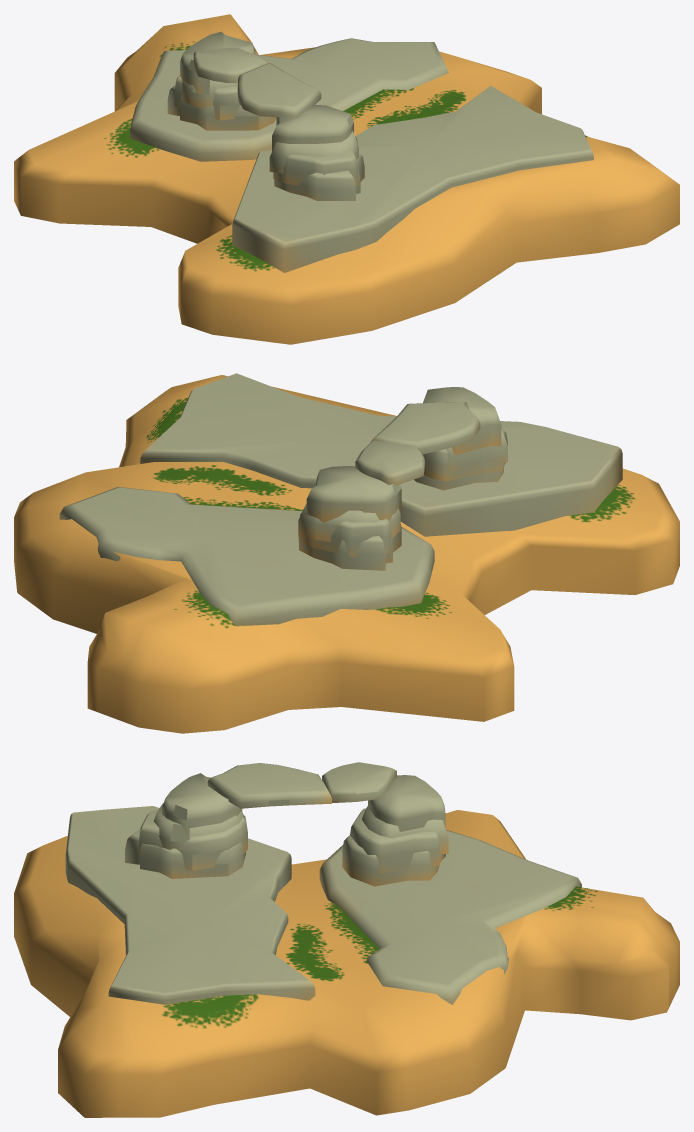
File: Ile Sud Ouest .fbx
3 renders of one model, top to bottom at view 1: azimuth 30°, elevation 25°; view 2: azimuth 150°, elevation 25°; view 3: azimuth 270°, elevation 25°, orthographic. The views are drawn at different scales.
Parts seen in each view (by area): view 1: Ile_Sud_Ouest; view 2: Ile_Sud_Ouest; view 3: Ile_Sud_Ouest.
Part boxes in pixels (bbox=[...]): Ile_Sud_Ouest: bbox=[14, 14, 679, 344]; Ile_Sud_Ouest: bbox=[14, 373, 679, 733]; Ile_Sud_Ouest: bbox=[14, 762, 679, 1117].
Bounding box in the file's own units: 174 × 52.42 × 189.
Materials: 1 (1 with a texture image).
